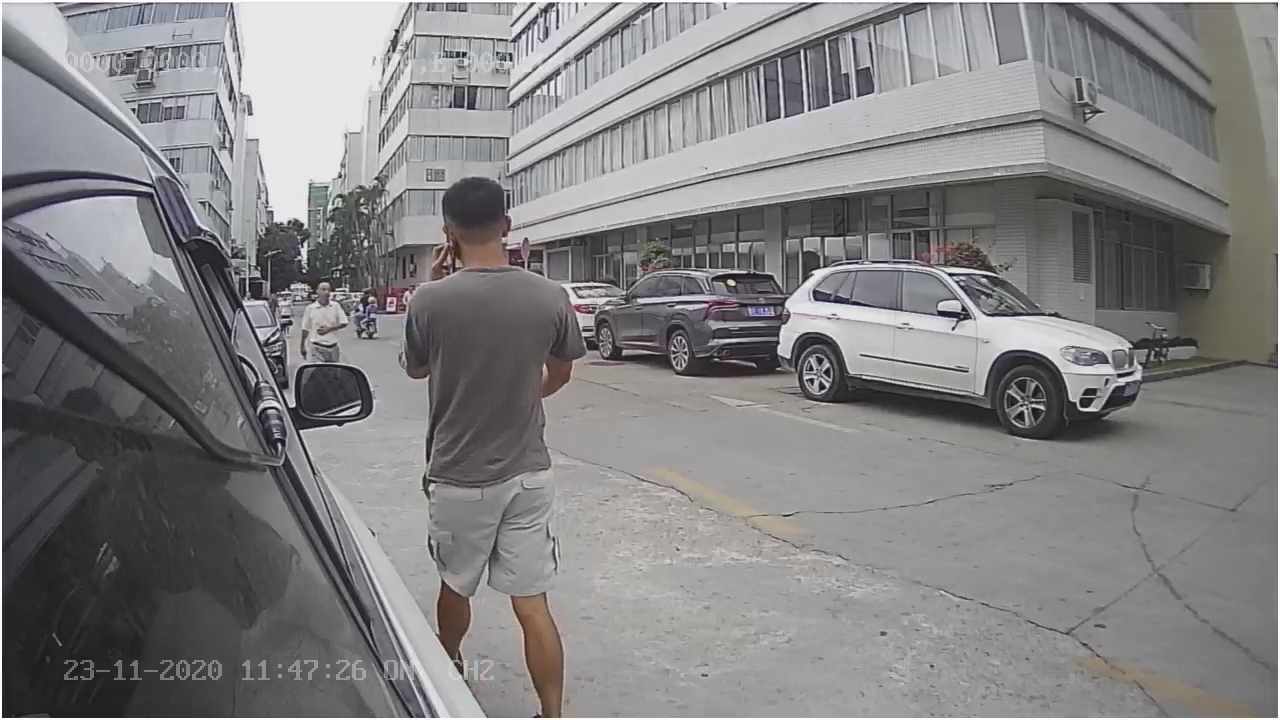person: (384, 158, 580, 438)
